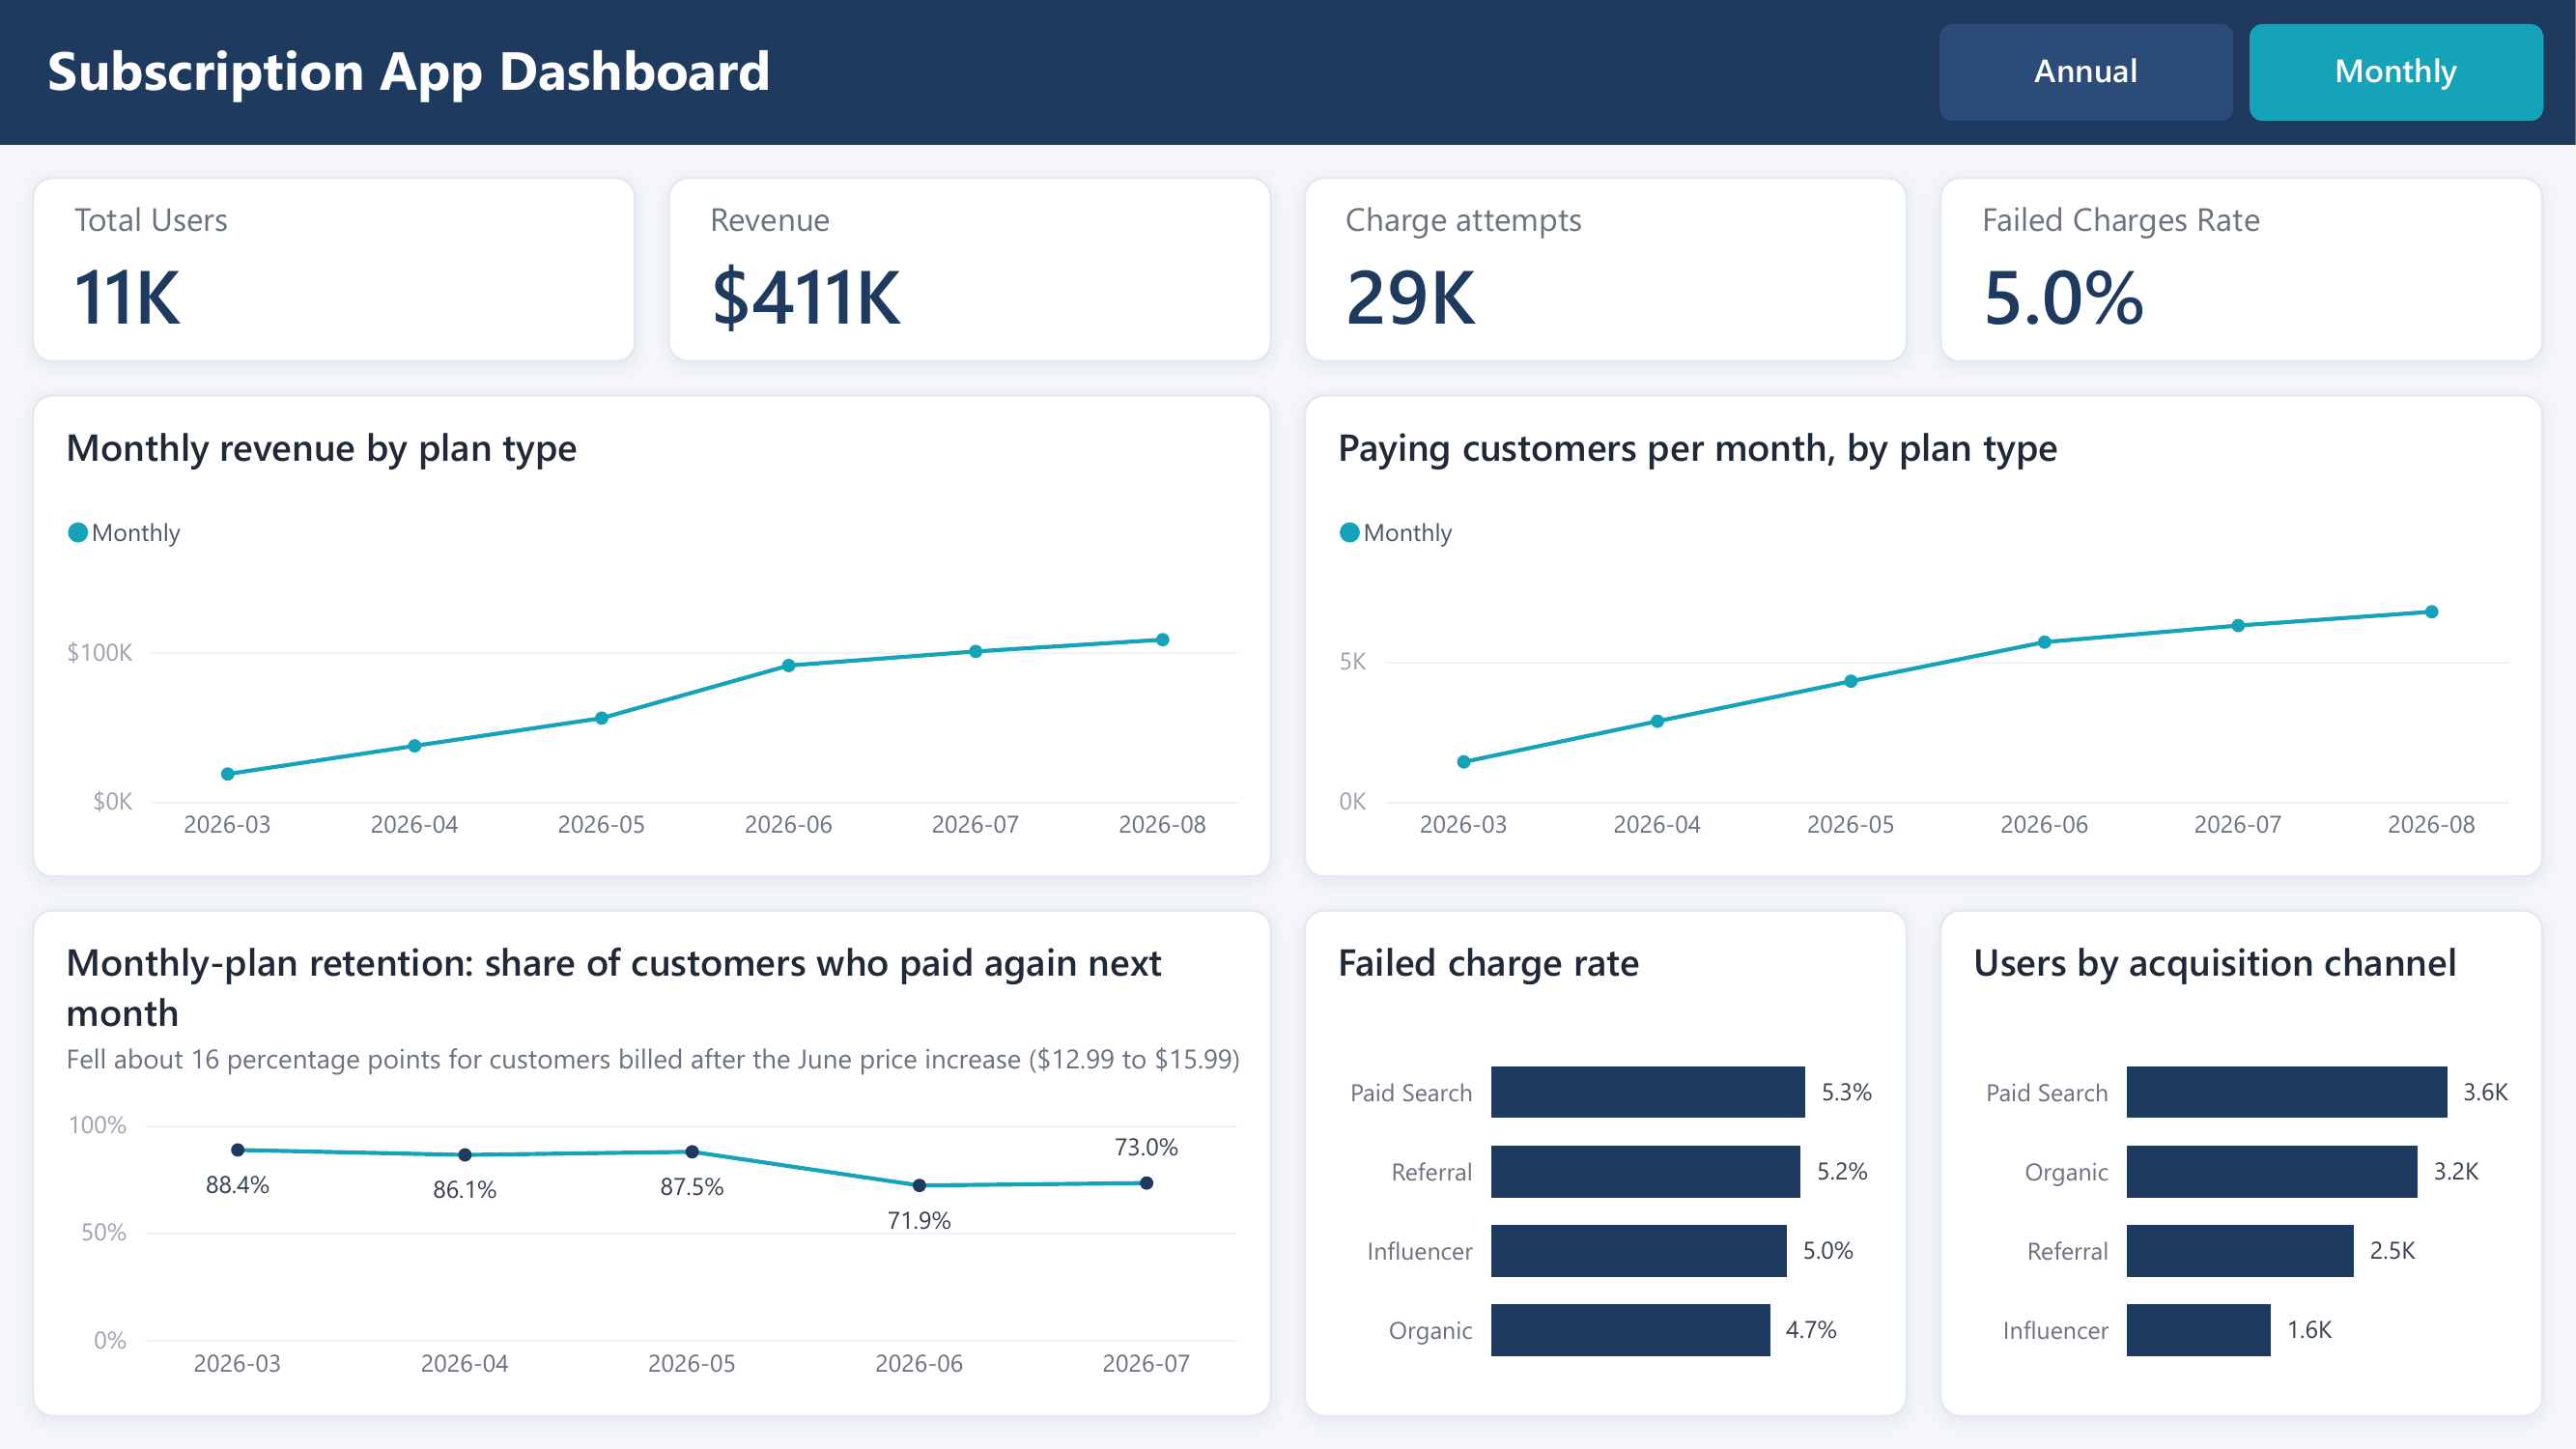

What the dashboard file says about the page in this screenshot:
{"tool":"powerbi","page":{"name":"Page 1","canvas":[1280,720],"ordinal":0},"visuals":[{"type":"textbox","box":[0,0,1280,72],"z":0},{"type":"cardVisual","title":"Total users","fields":{"Data":["charges.Total Users"]},"box":[16,88,300,92],"z":0},{"type":"cardVisual","title":"Revenue (successful charges)","fields":{"Data":["charges.Total Revenue"]},"box":[332,88,300,92],"z":1000},{"type":"cardVisual","title":"Charge attempts","fields":{"Data":["charges.Total Charges"]},"box":[648,88,300,92],"z":2000},{"type":"cardVisual","title":"Failed charge rate","fields":{"Data":["charges.Failed Charges Rate"]},"box":[964,88,300,92],"z":3000},{"type":"clusteredBarChart","title":"Users by acquisition channel","fields":{"Category":["users.channel"],"Y":["charges.Total Users"]},"box":[964,452,300,252],"z":4000},{"type":"clusteredBarChart","title":"Failed charge rate","fields":{"Category":["users.channel"],"Y":["charges.Failed Charges Rate"]},"box":[648,452,300,252],"z":5000},{"type":"lineChart","title":"Monthly revenue by plan type","fields":{"Category":["charges.billing_period"],"Series":["users.plan_type"],"Y":["charges.Total Revenue"]},"box":[16,196,616,240],"z":6000},{"type":"lineChart","title":"Paying customers per month, by plan type","fields":{"Category":["charges.billing_period"],"Series":["users.plan_type"],"Y":["charges.Paying Users"]},"box":[648,196,616,240],"z":7000},{"type":"lineChart","title":"Monthly-plan retention: share of customers who paid again next month","fields":{"Category":["charges.billing_period"],"Y":["charges.Retention Rate"]},"box":[16,452,616,252],"z":8000},{"type":"advancedSlicerVisual","fields":{"Values":["users.plan_type"]},"box":[964,12,300,48],"z":20000}]}

Visuals, with their boxes in screenshot pixels (x1, y1, x2, y2), scaled from the page's 1280x720 canvas onto the 2576x1449 screenshot:
textbox: box(0, 0, 2575, 145)
"Total users" cardVisual: box(32, 177, 636, 362)
"Revenue (successful charges)" cardVisual: box(668, 177, 1272, 362)
"Charge attempts" cardVisual: box(1304, 177, 1908, 362)
"Failed charge rate" cardVisual: box(1940, 177, 2544, 362)
"Users by acquisition channel" clusteredBarChart: box(1940, 910, 2544, 1417)
"Failed charge rate" clusteredBarChart: box(1304, 910, 1908, 1417)
"Monthly revenue by plan type" lineChart: box(32, 394, 1272, 877)
"Paying customers per month, by plan type" lineChart: box(1304, 394, 2544, 877)
"Monthly-plan retention: share of customers who paid again next month" lineChart: box(32, 910, 1272, 1417)
advancedSlicerVisual - users.plan_type: box(1940, 24, 2544, 121)
